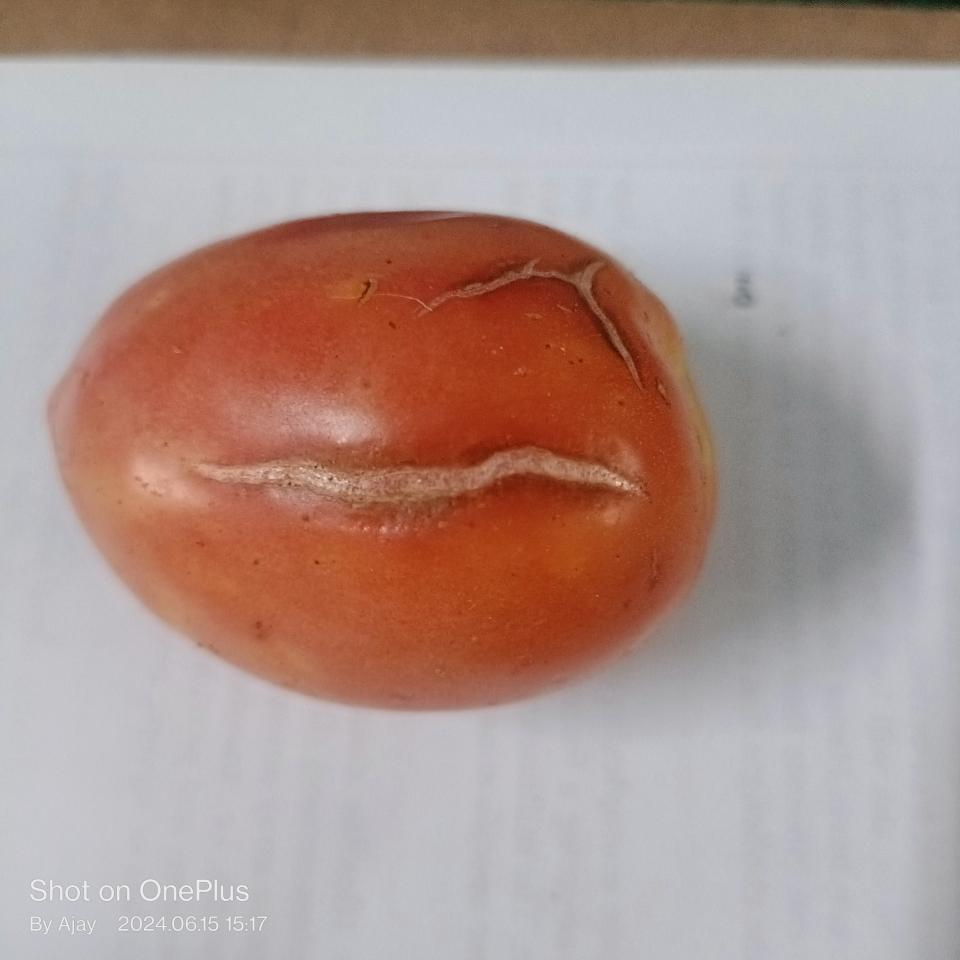Cracking: (178, 444, 645, 521), (413, 253, 595, 305)
